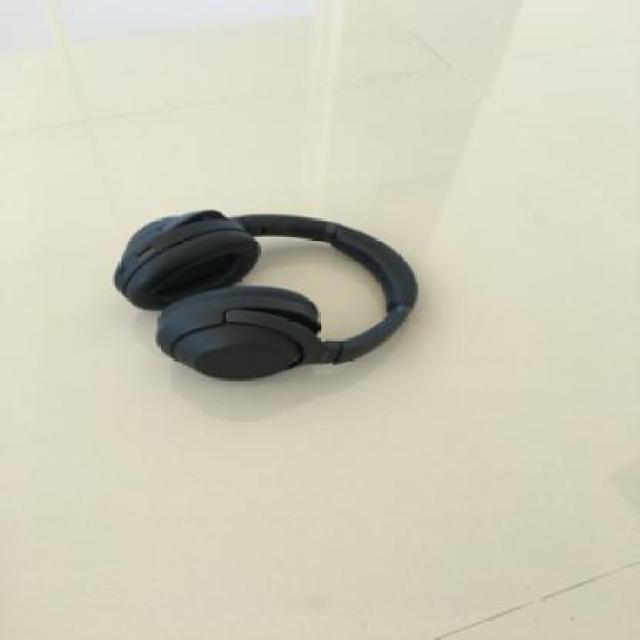earphone: (113, 115, 440, 410)
